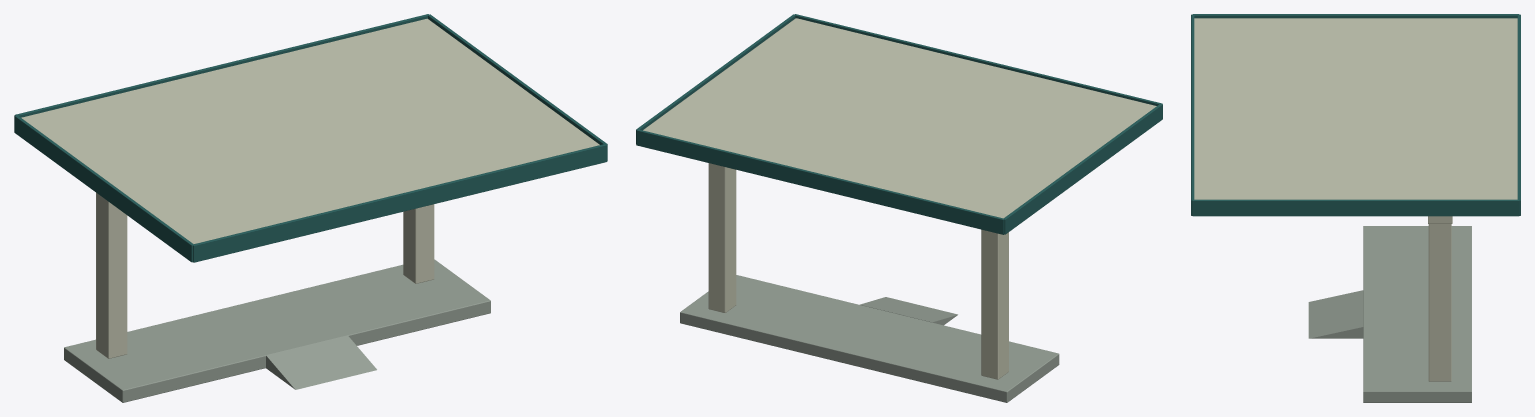
3 views of the same model, side by side, from view 1: azimuth 30°, elevation 25°; view 2: azimuth 150°, elevation 25°; view 3: azimuth 270°, elevation 25° (orthographic). The views are drawn at different scales.
Parts seen in each view (by area): view 1: CANOPY_Slab, WALKWAY_Platform, FASCIA_Long, COLUMN_BackSupport.001, WALKWAY_Ramp, FASCIA_End, COLUMN_BackSupport, FASCIA_Long.001, FASCIA_End.001; view 2: CANOPY_Slab, WALKWAY_Platform, FASCIA_Long.001, COLUMN_BackSupport, COLUMN_BackSupport.001, FASCIA_End, FASCIA_Long, WALKWAY_Ramp, FASCIA_End.001; view 3: CANOPY_Slab, WALKWAY_Platform, FASCIA_End.001, COLUMN_BackSupport, WALKWAY_Ramp, FASCIA_End, FASCIA_Long, FASCIA_Long.001.
Boxes of the visible parts, x1,y1,x2,y2 form: CANOPY_Slab: (21, 18, 599, 243); WALKWAY_Platform: (64, 259, 490, 402); FASCIA_Long: (193, 144, 607, 262); COLUMN_BackSupport.001: (96, 192, 127, 358); WALKWAY_Ramp: (266, 335, 376, 389); FASCIA_End: (14, 115, 193, 262); COLUMN_BackSupport: (403, 204, 434, 283); FASCIA_Long.001: (14, 14, 428, 117); FASCIA_End.001: (428, 14, 607, 160); CANOPY_Slab: (643, 18, 1156, 218); WALKWAY_Platform: (680, 275, 1059, 402); FASCIA_Long.001: (636, 129, 1004, 234); COLUMN_BackSupport: (708, 163, 736, 312); COLUMN_BackSupport.001: (981, 229, 1008, 379); FASCIA_End: (1004, 104, 1162, 234); FASCIA_Long: (794, 14, 1162, 105); WALKWAY_Ramp: (860, 297, 957, 325); FASCIA_End.001: (636, 14, 795, 143); CANOPY_Slab: (1194, 18, 1517, 199); WALKWAY_Platform: (1363, 226, 1471, 402); FASCIA_End.001: (1192, 199, 1519, 216); COLUMN_BackSupport: (1428, 224, 1451, 381); WALKWAY_Ramp: (1308, 290, 1363, 338); FASCIA_End: (1192, 14, 1519, 18); FASCIA_Long: (1191, 14, 1194, 215); FASCIA_Long.001: (1517, 14, 1520, 215).
Bounding box in the file's own units: 6.1 × 3.24 × 4.55.
